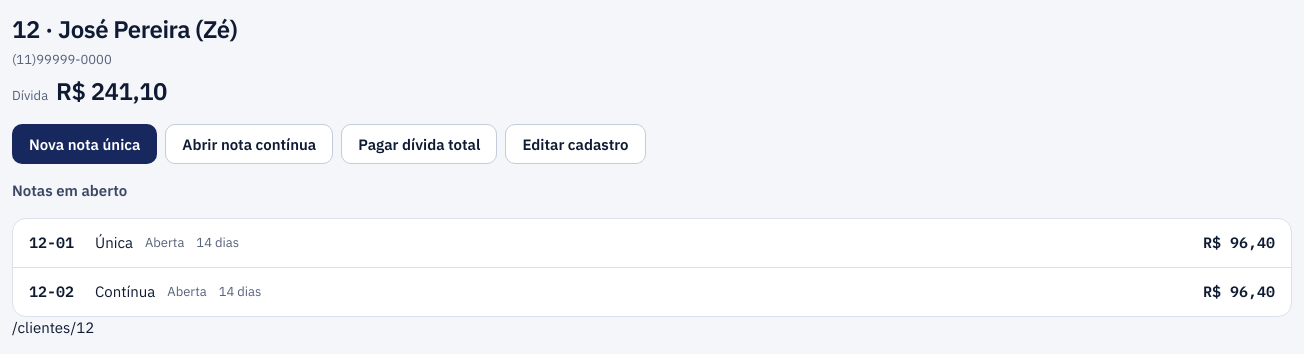
Test: TelaCliente › com contínua aberta, o botão vira Abrir nota contínua e abre a gaveta dela
The width and height of the screenshot is (1304, 354).
Click the button "Abrir nota contínua": (249, 144) [165,124,333,164]
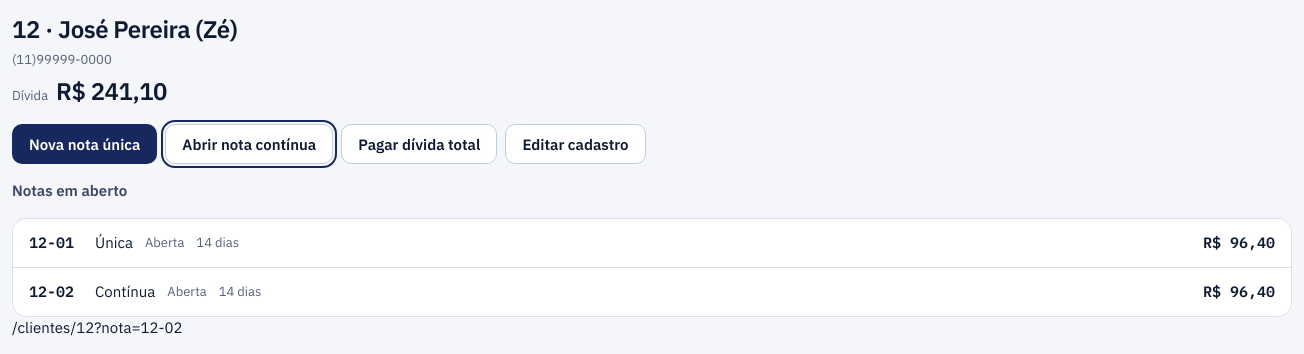
Check: the text with test id "local" reads "/clientes/12?nota=12-02", box [12,318,182,337]
